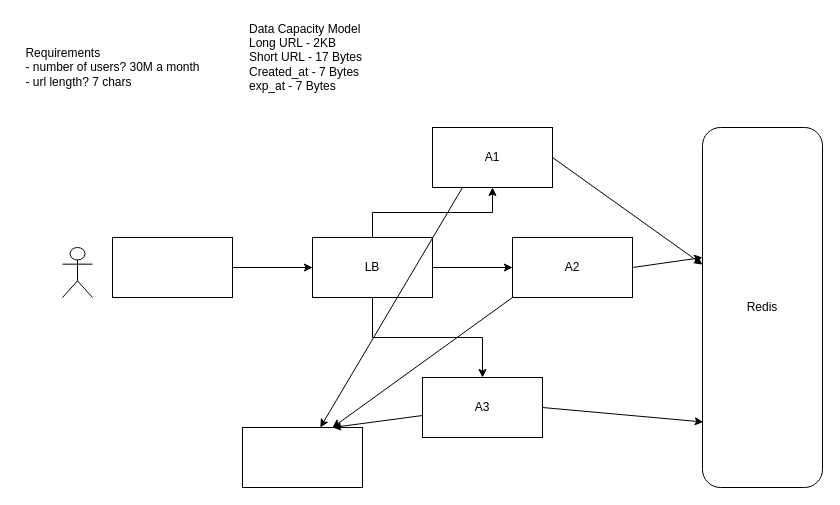
The diagram is 840 pixels wide and 505 high, and some of its shapes have lost their labels. Each missing label, with the centre of its shape:
"Actor" goes at point (77, 272).
"WAF" goes at point (172, 267).
"ZooKeeper" goes at point (302, 457).
